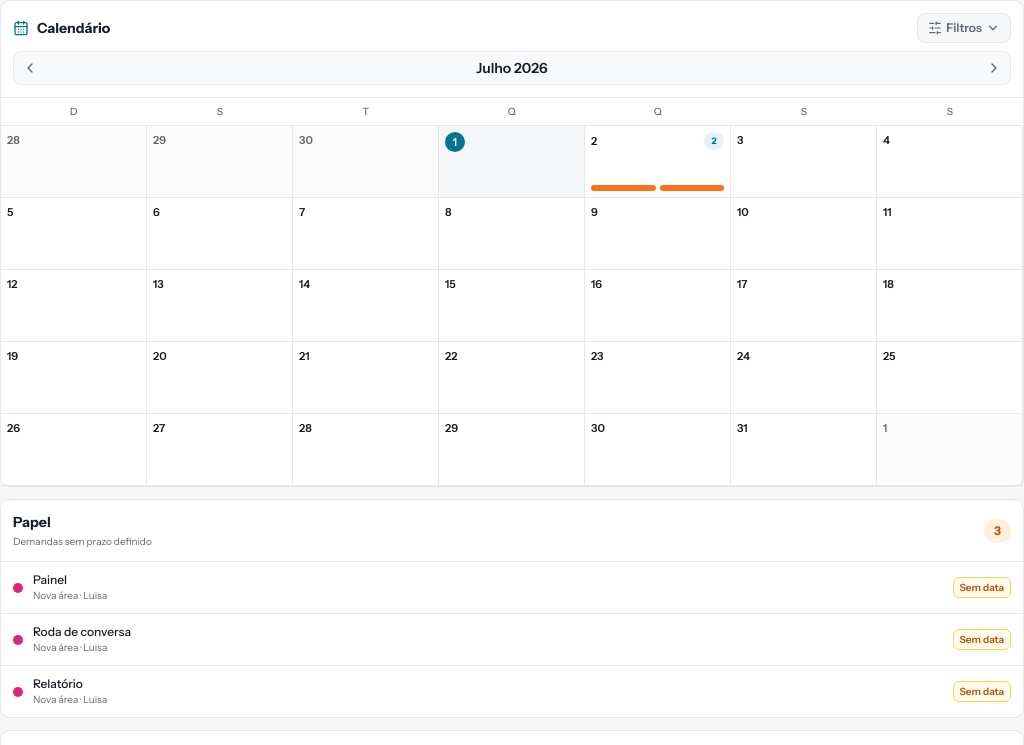
sinal de responsável na pílula › no celular, o popup do dia diz na letra quem é o responsável
Click the button named "2 de julho" at (658, 162), box top-left (585, 126), bottom-right (731, 198)
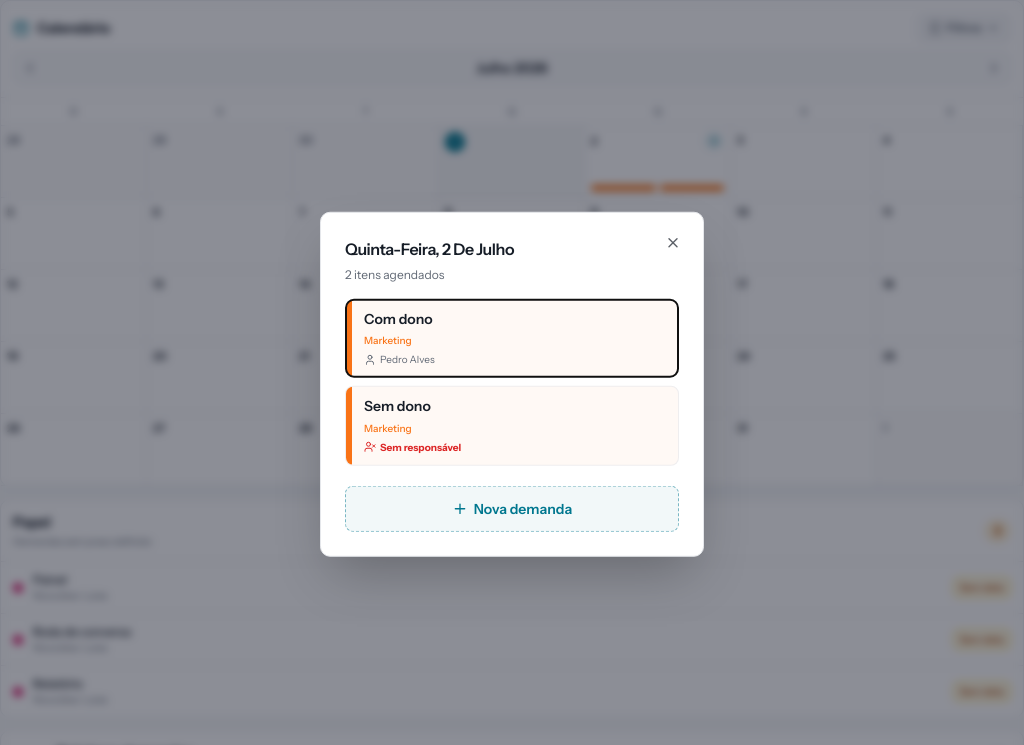
Expected: the text "Sem responsável" is shown, top-left (364, 440), bottom-right (461, 453)
Expected: the text "Pedro Alves" is shown, top-left (364, 353), bottom-right (435, 366)
